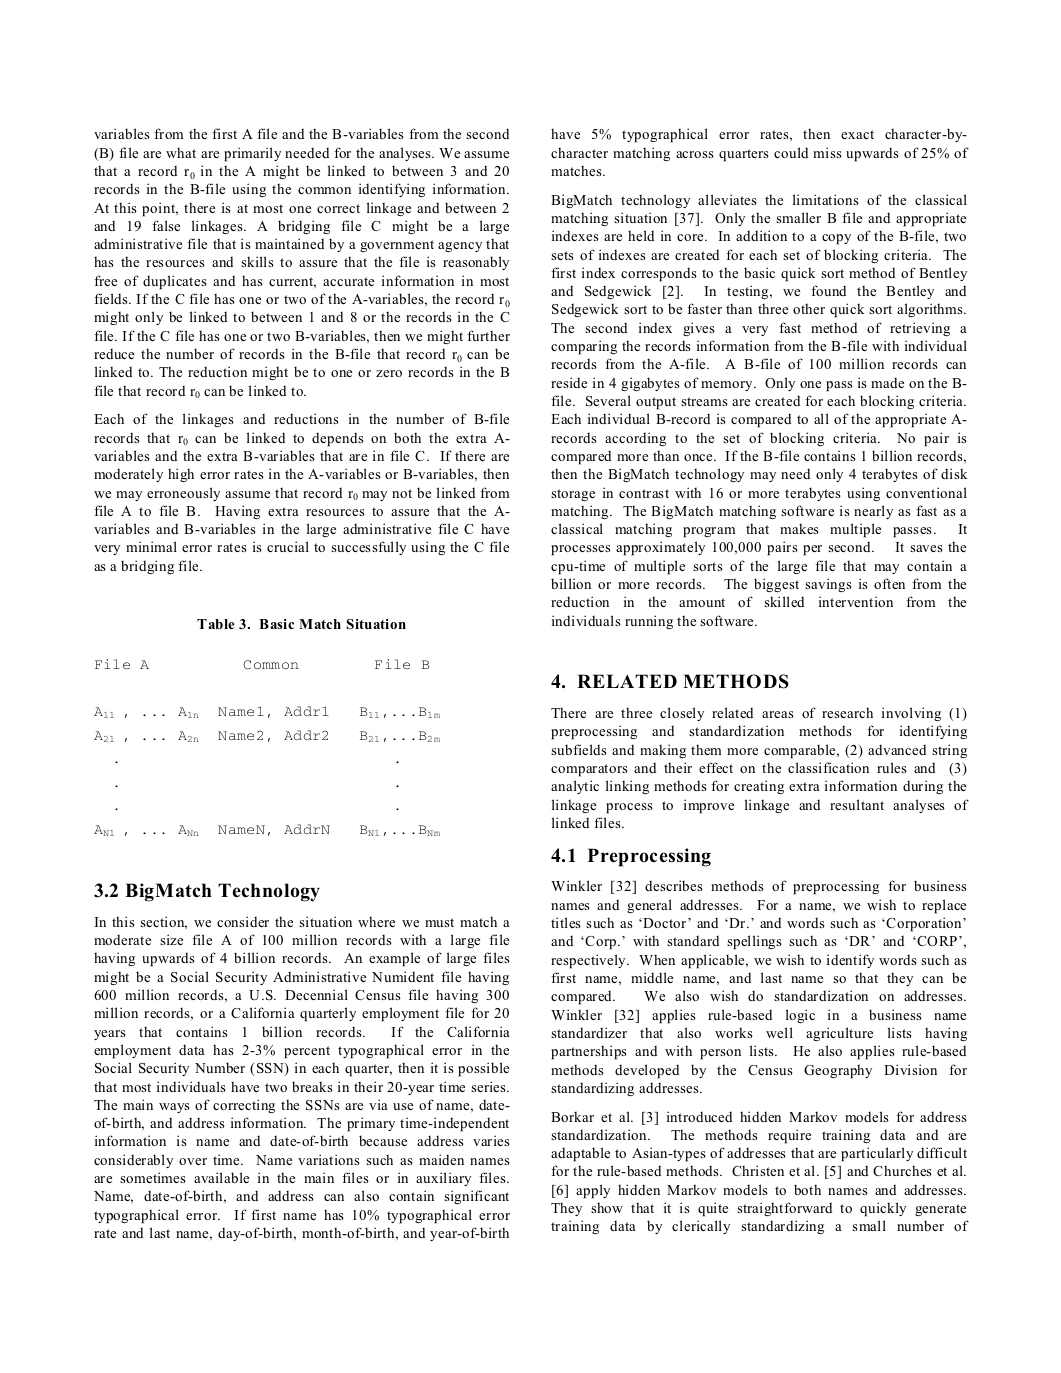Table: (94, 659, 439, 835)
